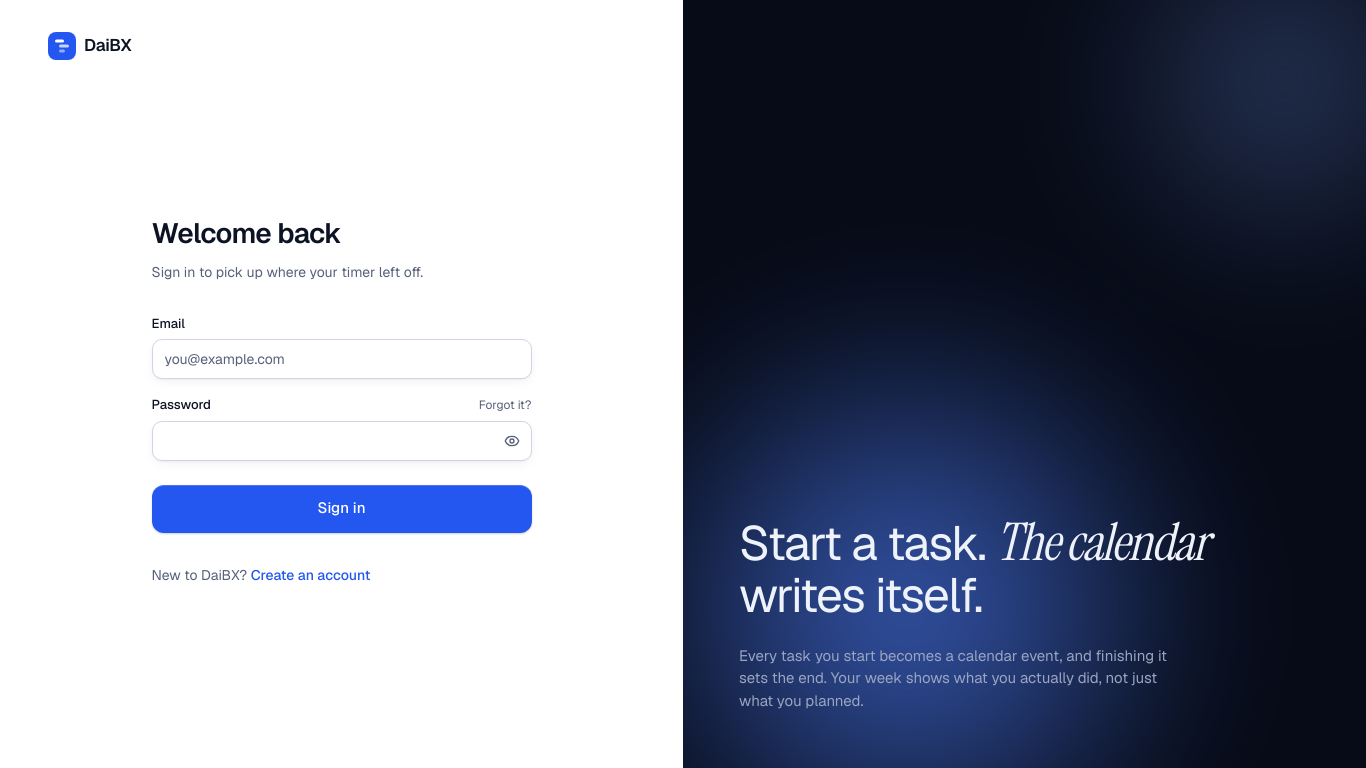
Scenario: a wrong password shows one generic message and never signs anyone out
The width and height of the screenshot is (1366, 768).
Type "shan@daibx.test" into the field labelled "Email" at point(342, 359), box [152,339,532,379]
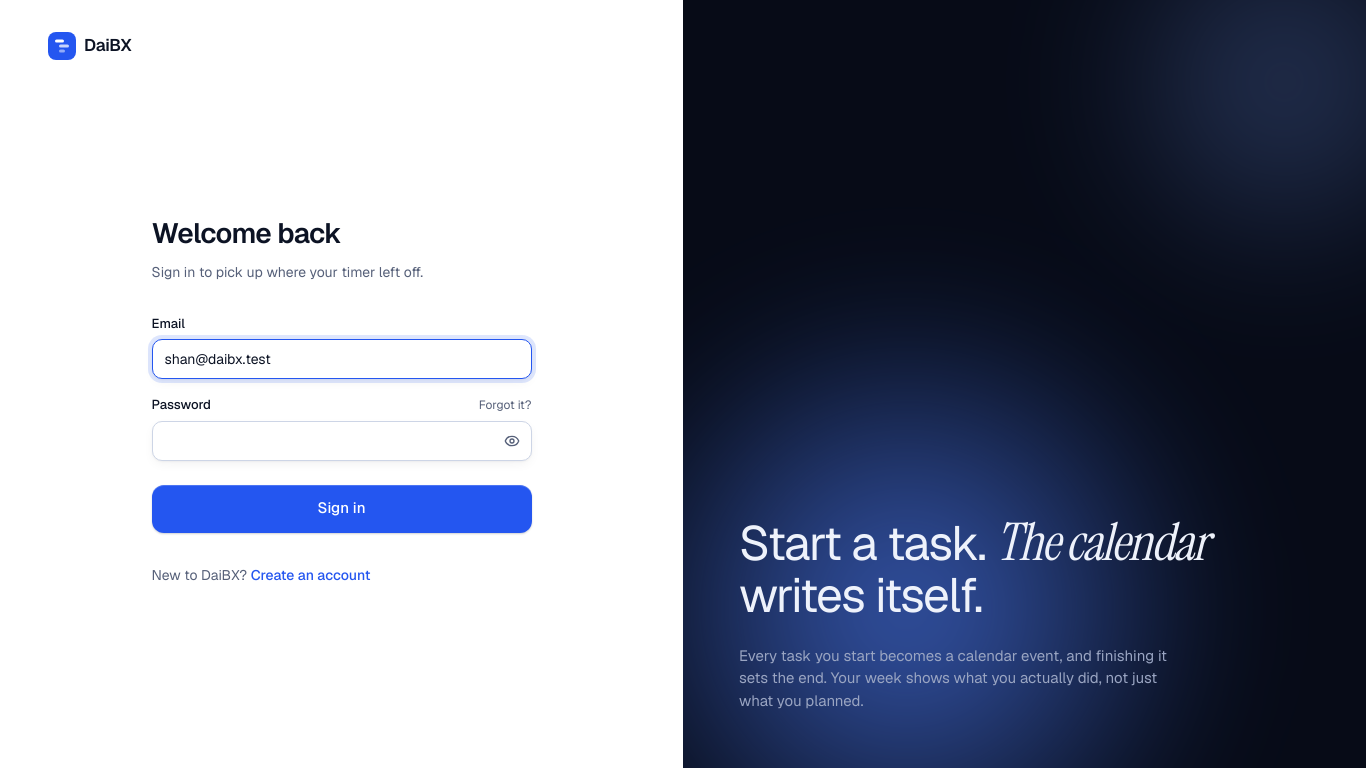
Type "violet lantern drifts past seven quiet docks" into the password field labelled "Password" at point(342, 440), box [152,420,532,460]
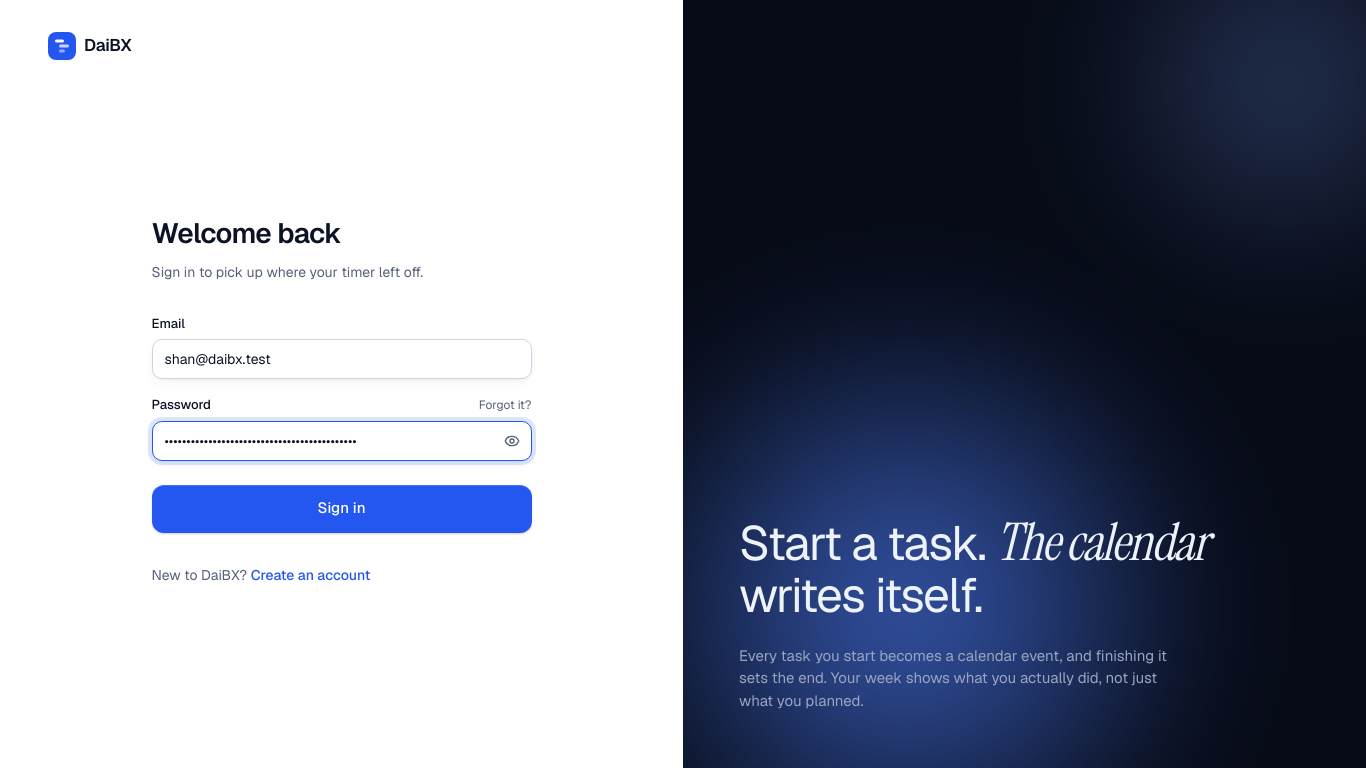
Click the button "Sign in" at point(342, 508), box [152,484,532,532]
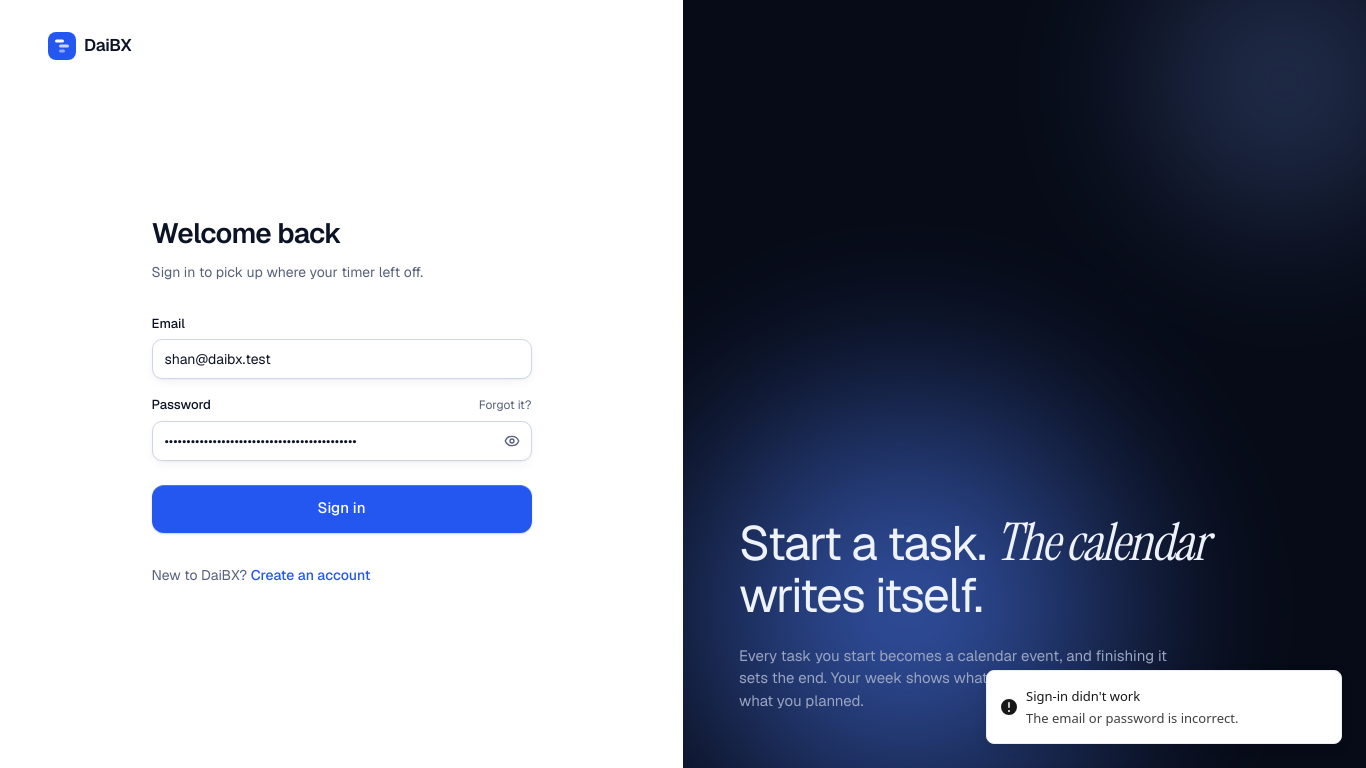
Check: the text "The email or password is incorrect." is shown, box [1026,709,1238,727]
